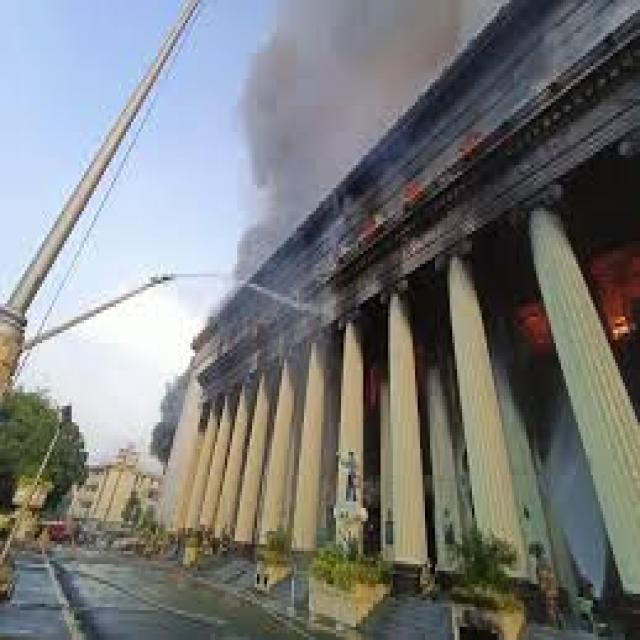Fire: (582, 236, 640, 338), (509, 299, 556, 344)
Smoke: (232, 0, 499, 280)
